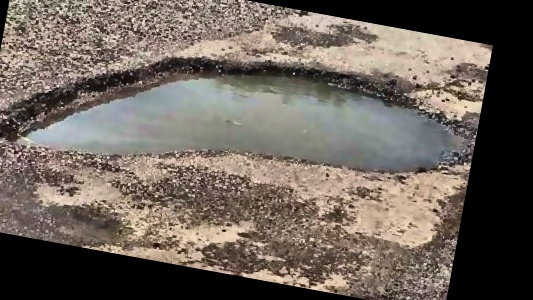pothole: (0, 10, 484, 230)
